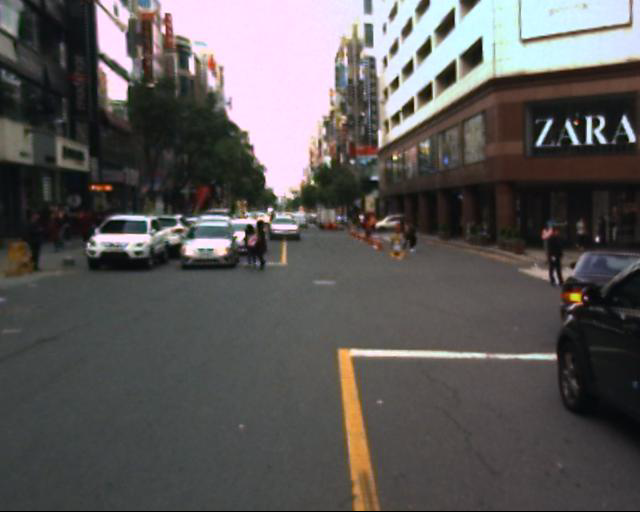person: (20, 202, 60, 282), (67, 196, 111, 255), (540, 224, 571, 298), (243, 216, 276, 284), (395, 215, 426, 263), (240, 223, 265, 280)
